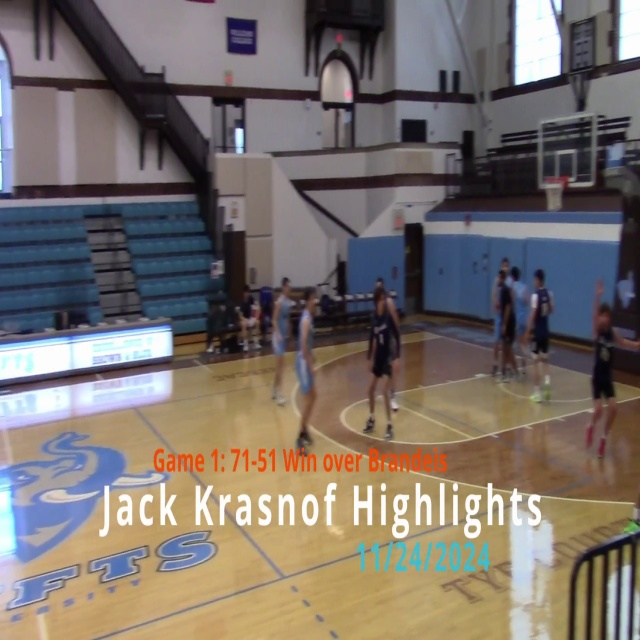Basketball: (595, 314, 612, 334)
